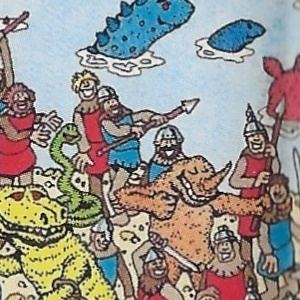Odlaw: (166, 130, 182, 170)
